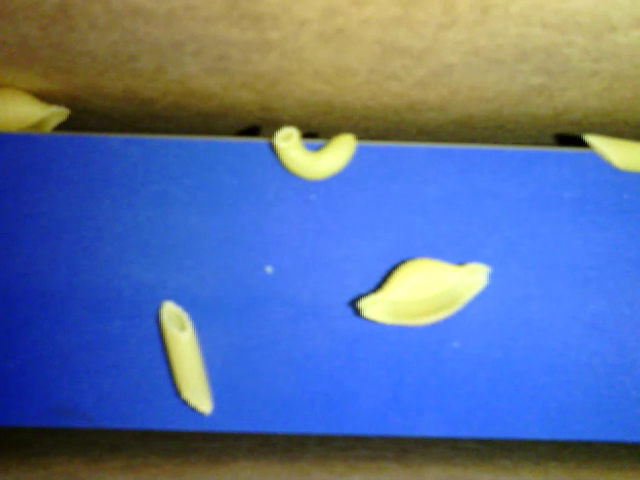elbow: (267, 115, 361, 182)
penne: (153, 292, 217, 419), (577, 131, 638, 179)
shell: (346, 254, 504, 329), (2, 88, 84, 136)
